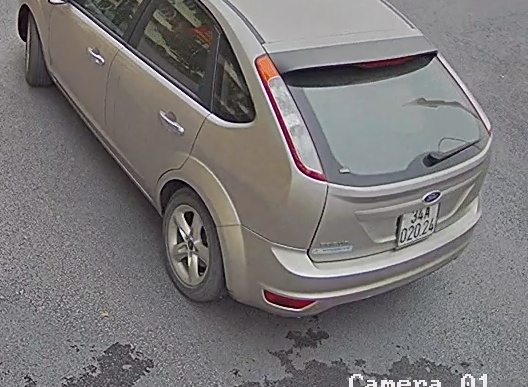vehicle plate: (394, 199, 446, 245)
